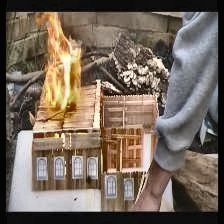fire: (25, 13, 88, 123)
